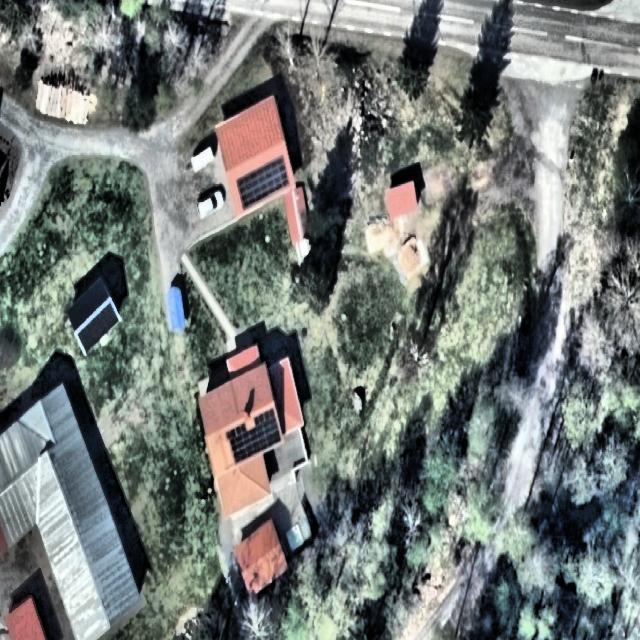roof_pv: (235, 152, 292, 210), (253, 406, 283, 448), (226, 422, 248, 466), (244, 427, 262, 459)
